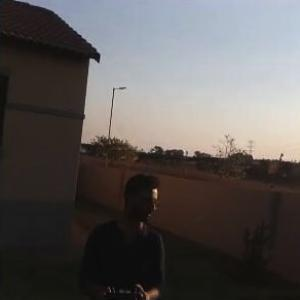follow: (75, 162, 175, 299)
